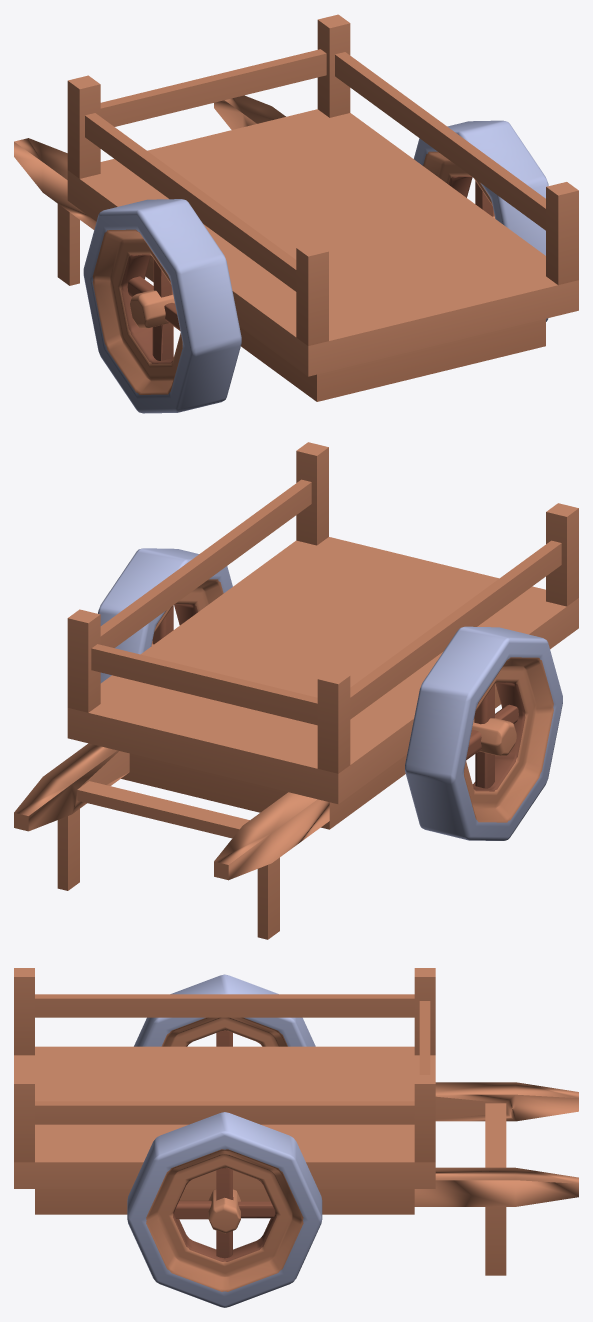
File: cart.glb
3 views of the same model, one above another, from view 1: azimuth 30°, elevation 25°; view 2: azimuth 150°, elevation 25°; view 3: azimuth 270°, elevation 25° (orthographic). The views are drawn at different scales.
Parts seen in each view (by area): view 1: cart, Group.001, Group; view 2: cart, Group.001, Group; view 3: cart, Group, Group.001.
Part boxes in pixels (x1=…): cart: x1=14, y1=14, x2=578, y2=401; Group.001: x1=83, y1=199, x2=241, y2=413; Group: x1=414, y1=120, x2=548, y2=321; cart: x1=14, y1=442, x2=578, y2=939; Group.001: x1=405, y1=626, x2=562, y2=840; Group: x1=98, y1=548, x2=232, y2=683; cart: x1=14, y1=968, x2=578, y2=1275; Group: x1=127, y1=1112, x2=322, y2=1307; Group.001: x1=134, y1=974, x2=315, y2=1046.
Bounding box in the file's own units: 0.893 × 0.5355 × 1.34.
Materials: 1 (1 with a texture image).
